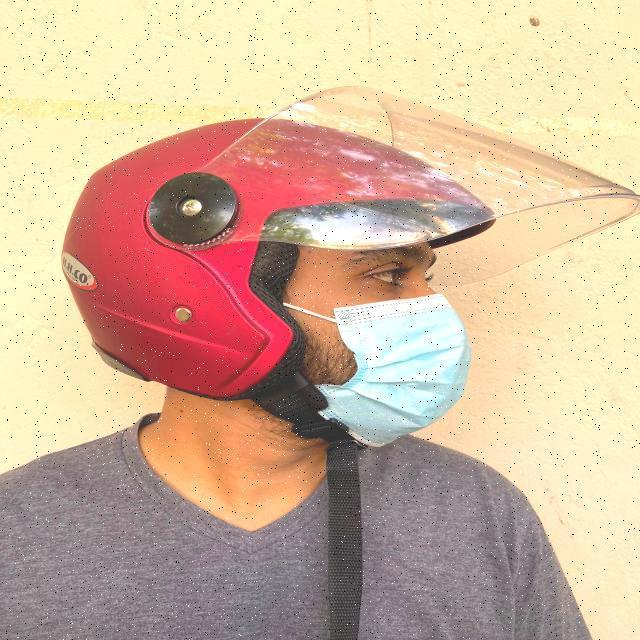helmet: (54, 78, 640, 478)
